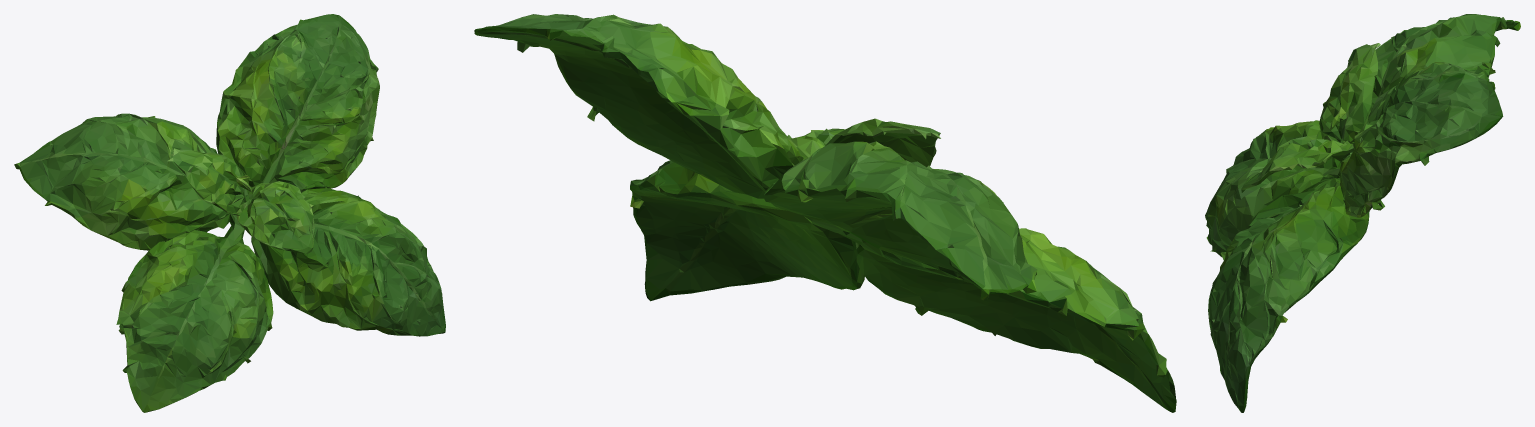
The model's file is basil.glb.
The picture shows the model from 3 angles, left to right: view 1: azimuth 30°, elevation 25°; view 2: azimuth 150°, elevation 25°; view 3: azimuth 270°, elevation 25°; orthographic projection. The views are drawn at different scales.
Visible parts, largest first — view 1: geometry_0; view 2: geometry_0; view 3: geometry_0.
Boxes of the visible parts, x1=… form: geometry_0: x1=14, y1=14, x2=445, y2=412; geometry_0: x1=474, y1=14, x2=1176, y2=412; geometry_0: x1=1205, y1=14, x2=1520, y2=412.
Size of the model in its own units: 0.12 by 0.0878 by 0.0816.
1 material, 1 textured.
